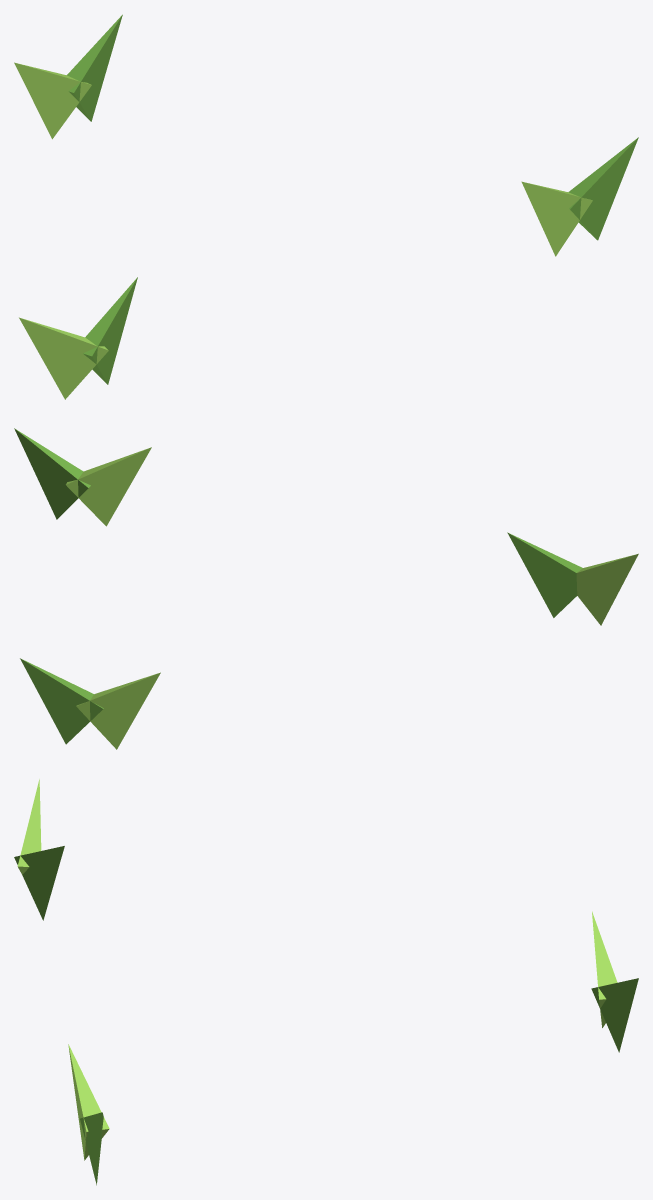
The model's file is pumpkin-1.glb.
3 renders of one model, top to bottom at view 1: azimuth 30°, elevation 25°; view 2: azimuth 150°, elevation 25°; view 3: azimuth 270°, elevation 25°, orthographic. The views are drawn at different scales.
Visible parts, largest first — view 1: pumpkin-1; view 2: pumpkin-1; view 3: pumpkin-1.
Part boxes in pixels (x1,y1,x2,y2): pumpkin-1: [14, 14, 638, 399]; pumpkin-1: [14, 428, 638, 749]; pumpkin-1: [14, 779, 638, 1185].
Size of the model in its own units: 0.5067 by 0.068 by 0.4008.
Materials: 1 (1 with a texture image).
